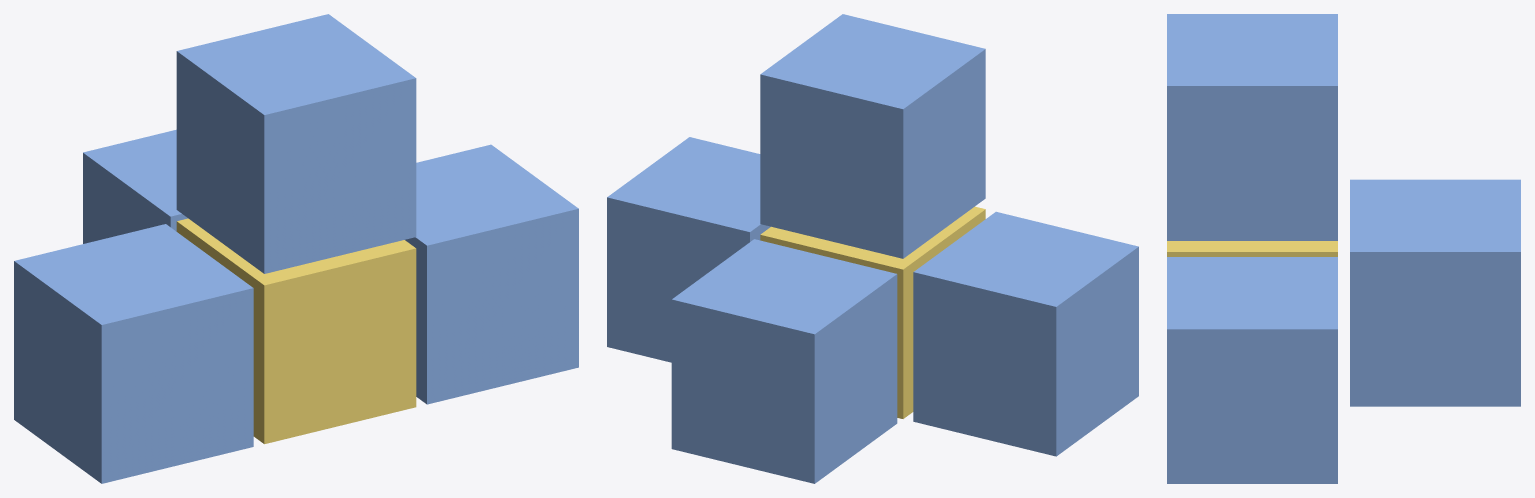
File: pepejal-B.glb
3 views of the same model, side by side, from view 1: azimuth 30°, elevation 25°; view 2: azimuth 150°, elevation 25°; view 3: azimuth 270°, elevation 25° (orthographic). The views are drawn at different scales.
Visible parts, largest first — view 1: pepejal; view 2: pepejal; view 3: pepejal.
Part boxes in pixels (x1,y1,x2,y2): pepejal: (14, 14, 578, 483); pepejal: (607, 14, 1138, 483); pepejal: (1167, 14, 1520, 483).
Bounding box in the file's own units: 0.176 × 0.116 × 0.116.
